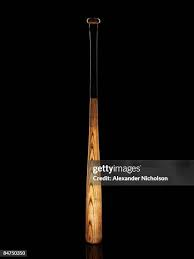baseball bat: (82, 16, 104, 245)
